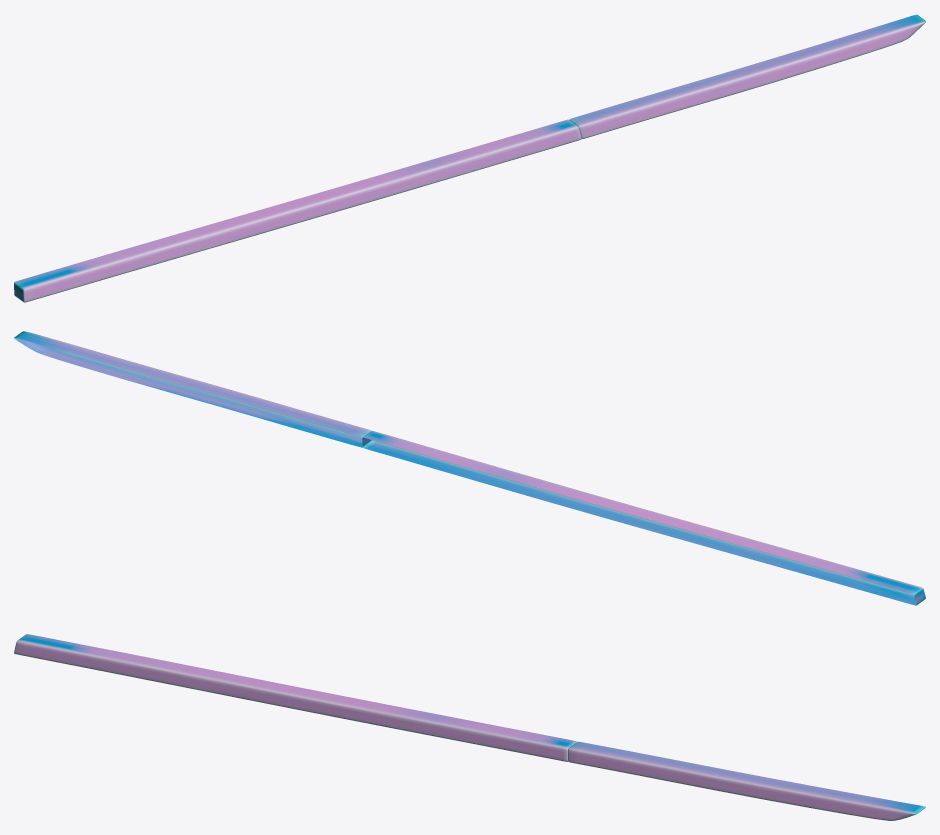
The model's file is unsorted_01.glb.
3 views of the same model, one above another, from view 1: azimuth 30°, elevation 25°; view 2: azimuth 150°, elevation 25°; view 3: azimuth 330°, elevation 25° (orthographic).
Visible parts, largest first — view 1: chrome_4; view 2: chrome_4; view 3: chrome_4.
Boxes of the visible parts, x1,y1,x2,y2 form: chrome_4: (14,14,925,302); chrome_4: (14,331,925,605); chrome_4: (14,634,925,820).
Bounding box in the file's own units: 1.61 × 0.0934 × 0.0502.
